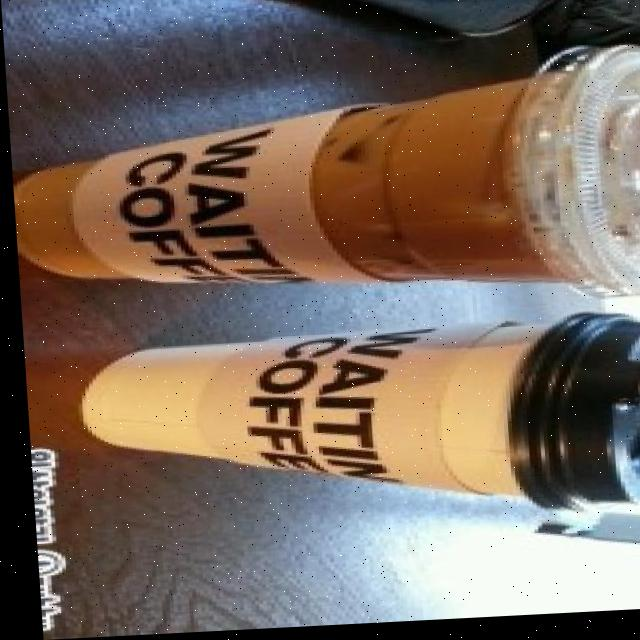cup: (4, 43, 640, 330)
